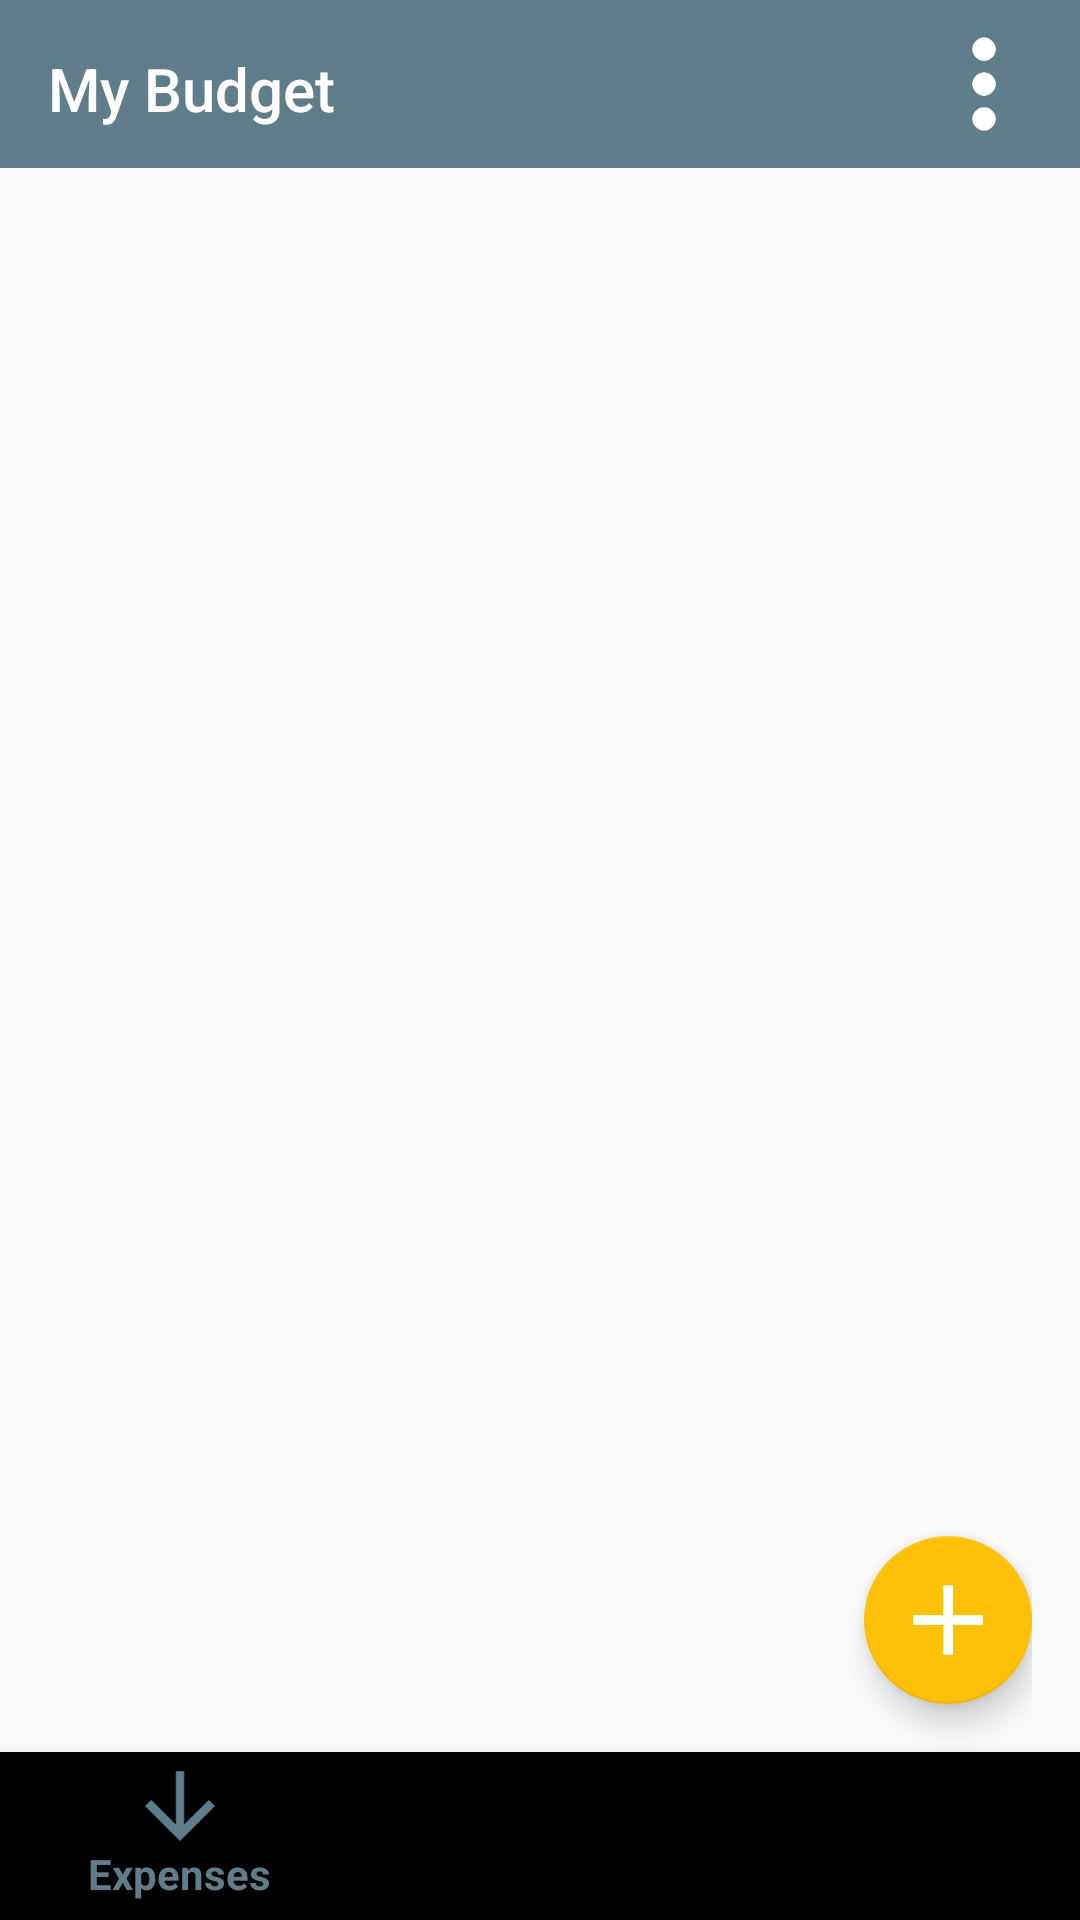

Where icons sit on this 1080w x 1920h app screen, as (x1, y1, x2, y2):
add: (864, 1536, 1032, 1704)
more vert: (972, 37, 996, 131)
